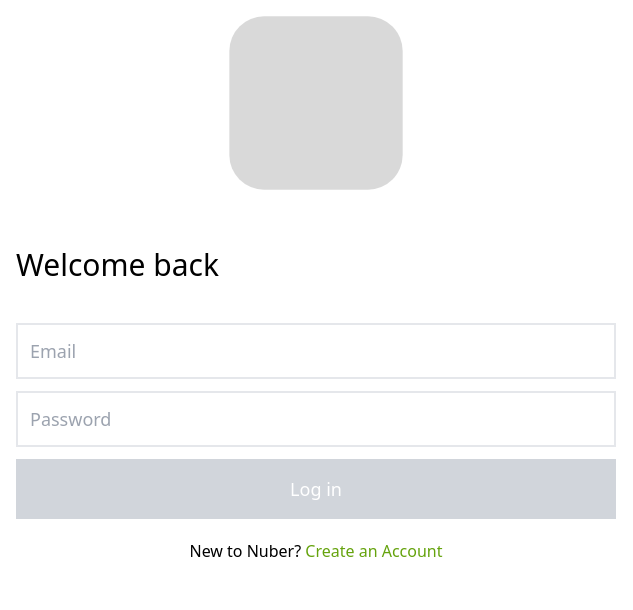
Test case: Log in › can see email / password validation error
Step 1. Type "bad@email" into the field with placeholder "Email" → (316, 351), box [16, 323, 616, 379]
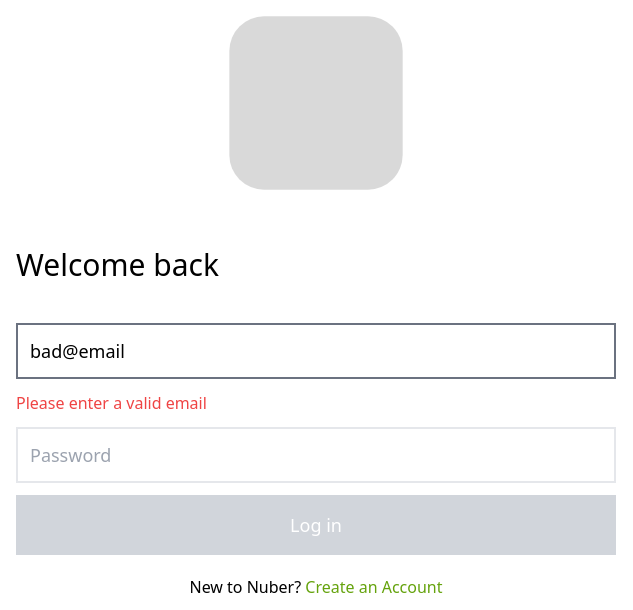
Check: the message reads "Please enter a valid email", box [16, 392, 207, 414]
Step 2. Clear the field with placeholder "Email" → (316, 351), box [16, 323, 616, 379]
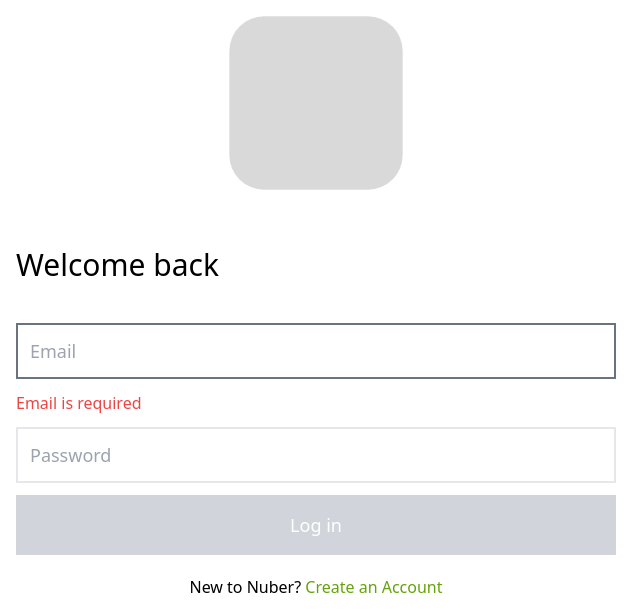
Check: the message reads "Email is required", box [16, 392, 142, 414]
Step 3. Type "bad@email.com" into the field with placeholder "Email" → (316, 351), box [16, 323, 616, 379]
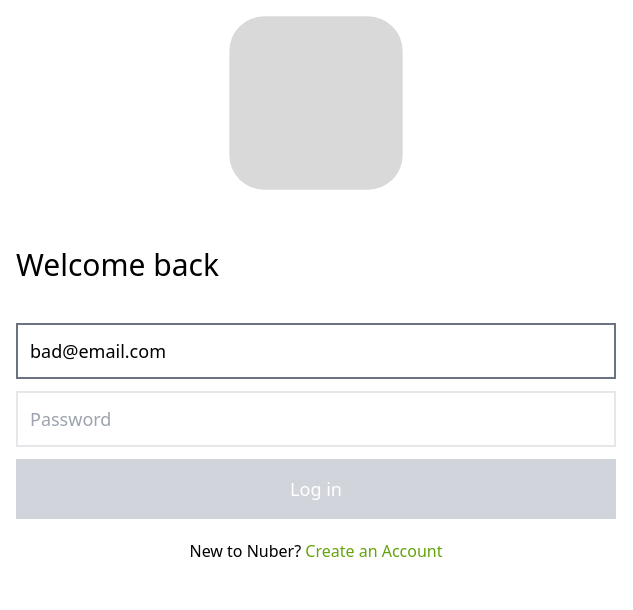
Step 4. Type "1" into the password field with placeholder "Password" → (316, 419), box [16, 391, 616, 447]
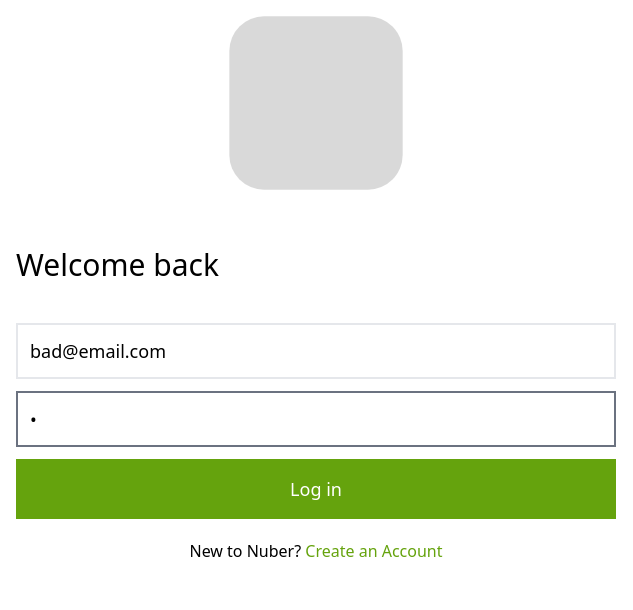
Step 5. Clear the password field with placeholder "Password" → (316, 419), box [16, 391, 616, 447]
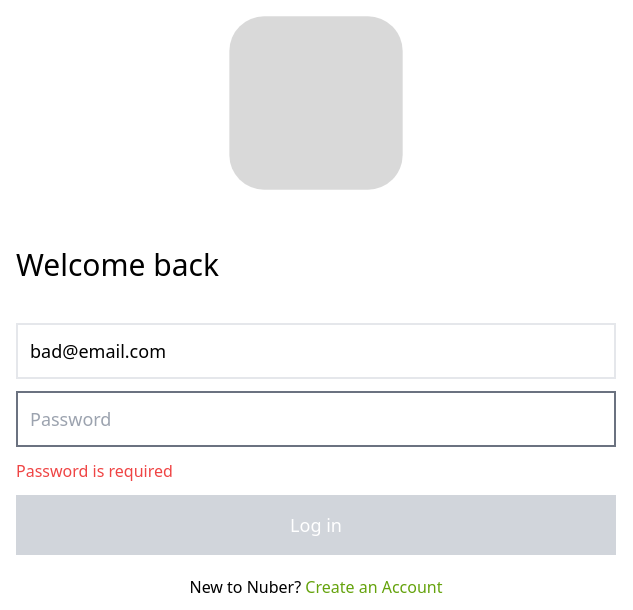
Check: the message reads "Password is required", box [16, 460, 173, 482]
